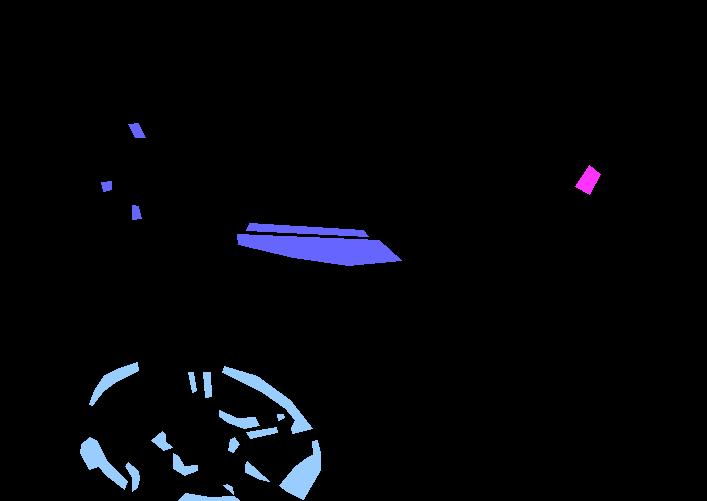Corrosion: (222, 366, 312, 433), (80, 437, 127, 489), (279, 440, 320, 499), (89, 362, 138, 405), (219, 410, 259, 428), (173, 453, 197, 475), (178, 493, 239, 501), (245, 461, 269, 481), (125, 462, 139, 491), (151, 431, 172, 450), (246, 427, 277, 438), (203, 372, 211, 397), (228, 437, 239, 452), (188, 372, 196, 392), (223, 484, 233, 494), (277, 414, 284, 420)
Dent: (575, 165, 600, 194)
Scratch: (237, 234, 401, 265), (246, 223, 368, 236), (128, 123, 145, 137), (132, 205, 141, 219), (101, 181, 111, 191)
